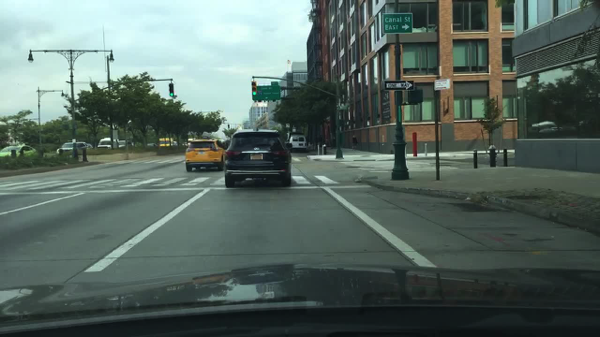car: (223, 128, 292, 189), (184, 140, 228, 172), (0, 144, 38, 157), (56, 141, 88, 154), (288, 133, 306, 152), (96, 138, 118, 149), (117, 140, 134, 148), (85, 142, 93, 149), (146, 142, 157, 146), (172, 142, 179, 147), (182, 142, 189, 146)
person: (350, 133, 359, 150)
traffic light: (407, 88, 424, 103), (393, 90, 402, 104), (251, 81, 257, 95), (169, 83, 174, 96)
traffic sign: (382, 12, 412, 34), (252, 85, 281, 101), (383, 80, 413, 91), (434, 79, 450, 91), (268, 80, 279, 85), (339, 106, 349, 110)
truck: (158, 137, 173, 147), (188, 137, 195, 145)
